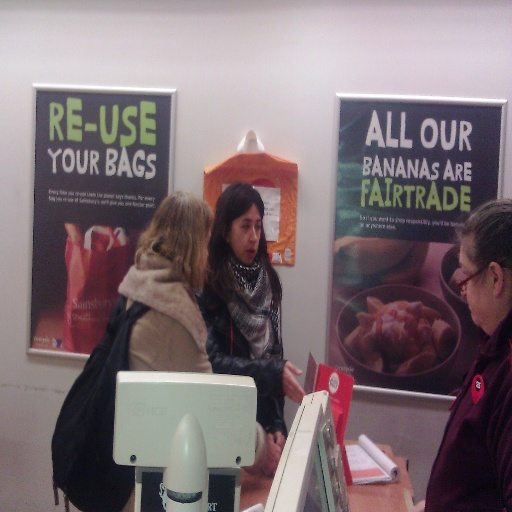hand: (278, 359, 308, 405), (260, 434, 283, 476), (266, 431, 285, 449), (413, 500, 426, 511)
